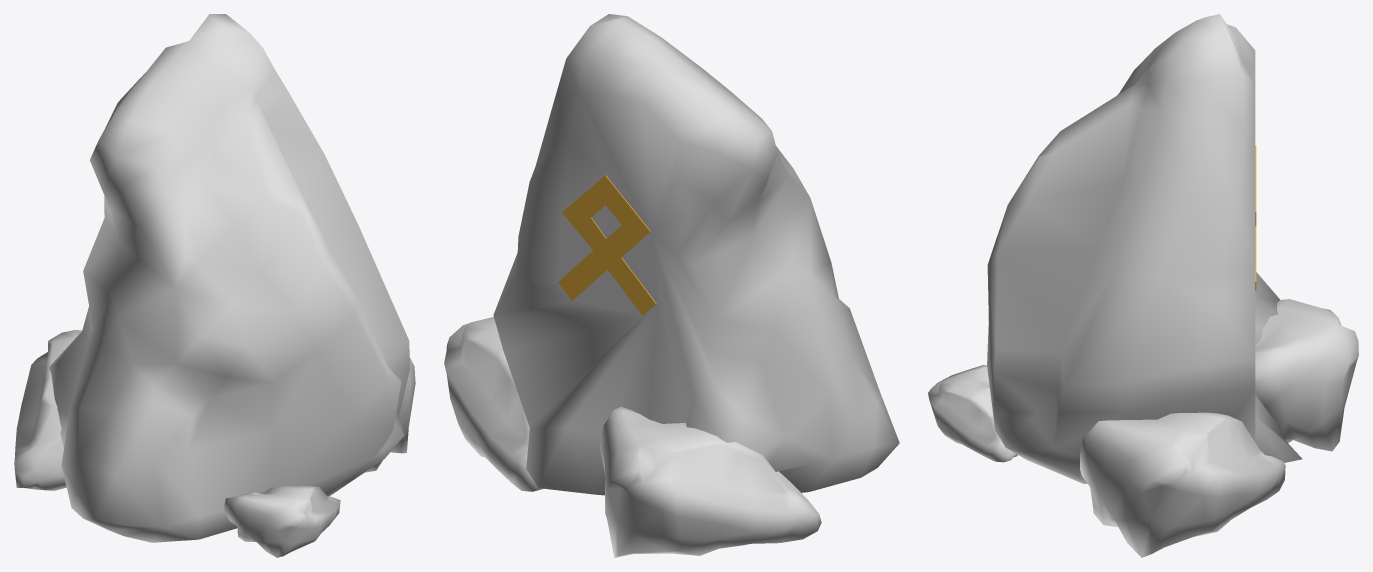
The model's file is Othilla.fbx.
3 views of the same model, side by side, from view 1: azimuth 30°, elevation 25°; view 2: azimuth 150°, elevation 25°; view 3: azimuth 270°, elevation 25° (orthographic). The views are drawn at different scales.
Visible parts, largest first — view 1: stone; view 2: stone, Othilla; view 3: stone.
Part boxes in pixels (x1,y1,x2,y2): stone: [14, 14, 415, 557]; stone: [444, 14, 899, 557]; Othilla: [558, 175, 656, 315]; stone: [928, 14, 1358, 557].
Bounding box in the file's own units: 155 × 181 × 152.
